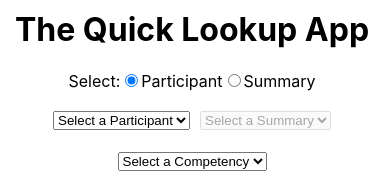
Test: Make 'Summary' select box active › should make the select box 'Summary' active
Click the radio button labelled "Summary".
click(234, 80)  # box [228,74,240,87]
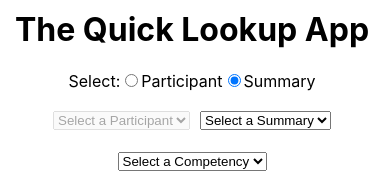
Check: the dropdown with test id "select-summary" is enabled, box [200,111,331,130]
